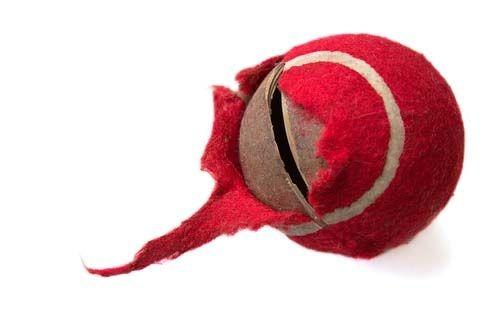non-dog: (82, 32, 468, 280)
